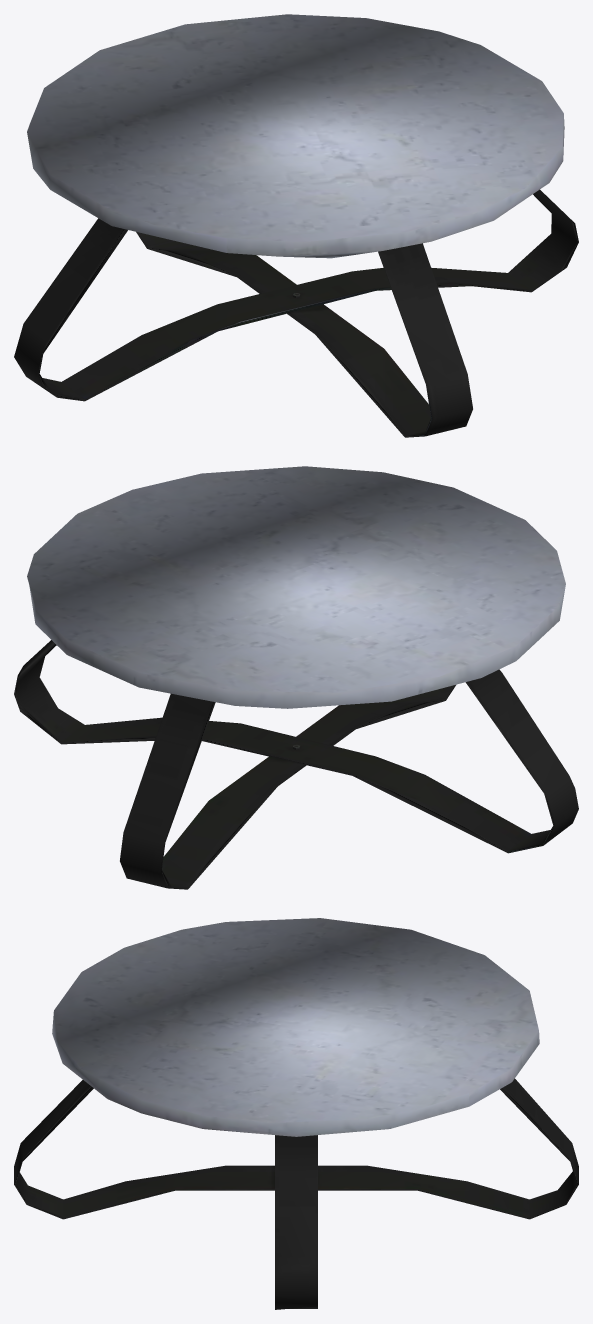
File: coffee_table_round.glb
3 renders of one model, top to bottom at view 1: azimuth 30°, elevation 25°; view 2: azimuth 150°, elevation 25°; view 3: azimuth 270°, elevation 25°, orthographic. The views are drawn at different scales.
Parts seen in each view (by area): view 1: coffee_table_round; view 2: coffee_table_round; view 3: coffee_table_round.
Part boxes in pixels (x1,y1,x2,y2): coffee_table_round: [14, 14, 578, 437]; coffee_table_round: [14, 466, 578, 889]; coffee_table_round: [14, 918, 578, 1309].
Bounding box in the file's own units: 1.3 × 0.4826 × 1.3.
Materials: 1 (1 with a texture image).
